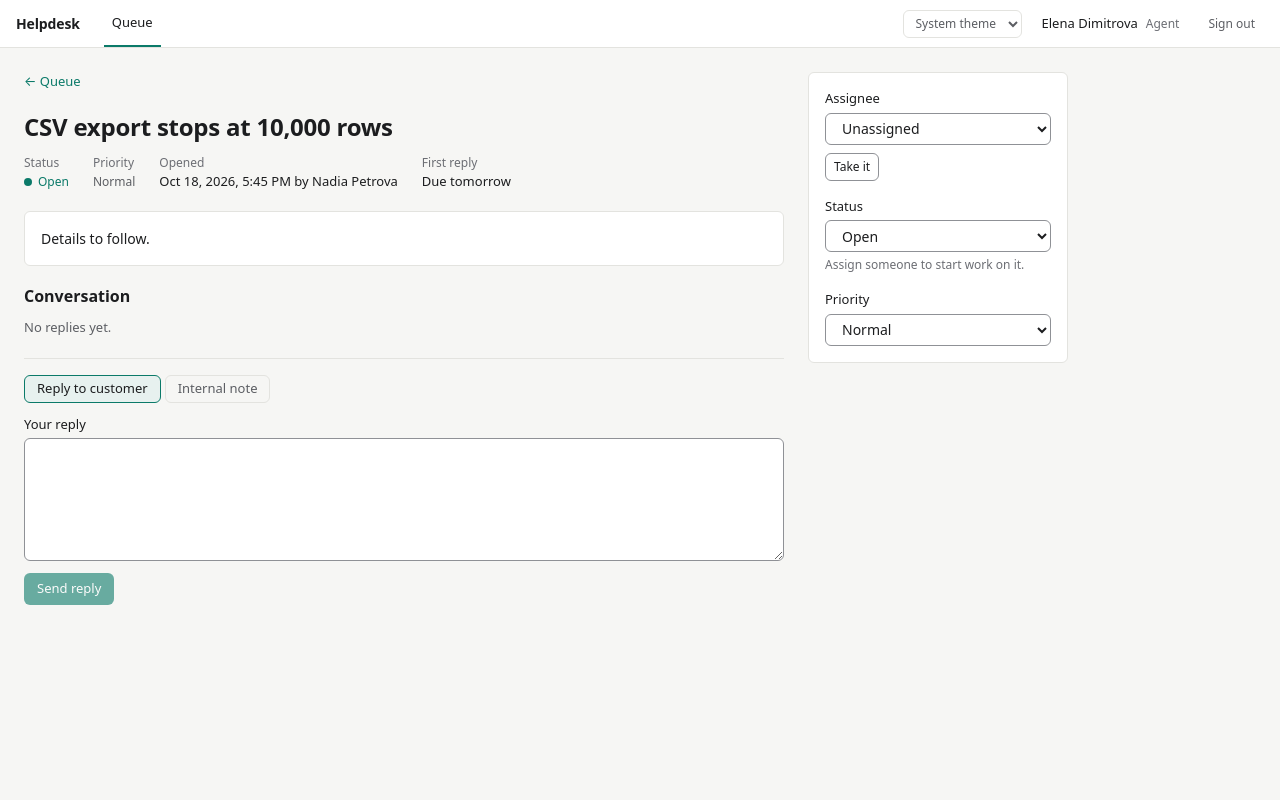
a ticket, worked by staff › raises the priority
Select "Urgent" in the dropdown labelled "Priority": (938, 330) [825,314,1051,346]
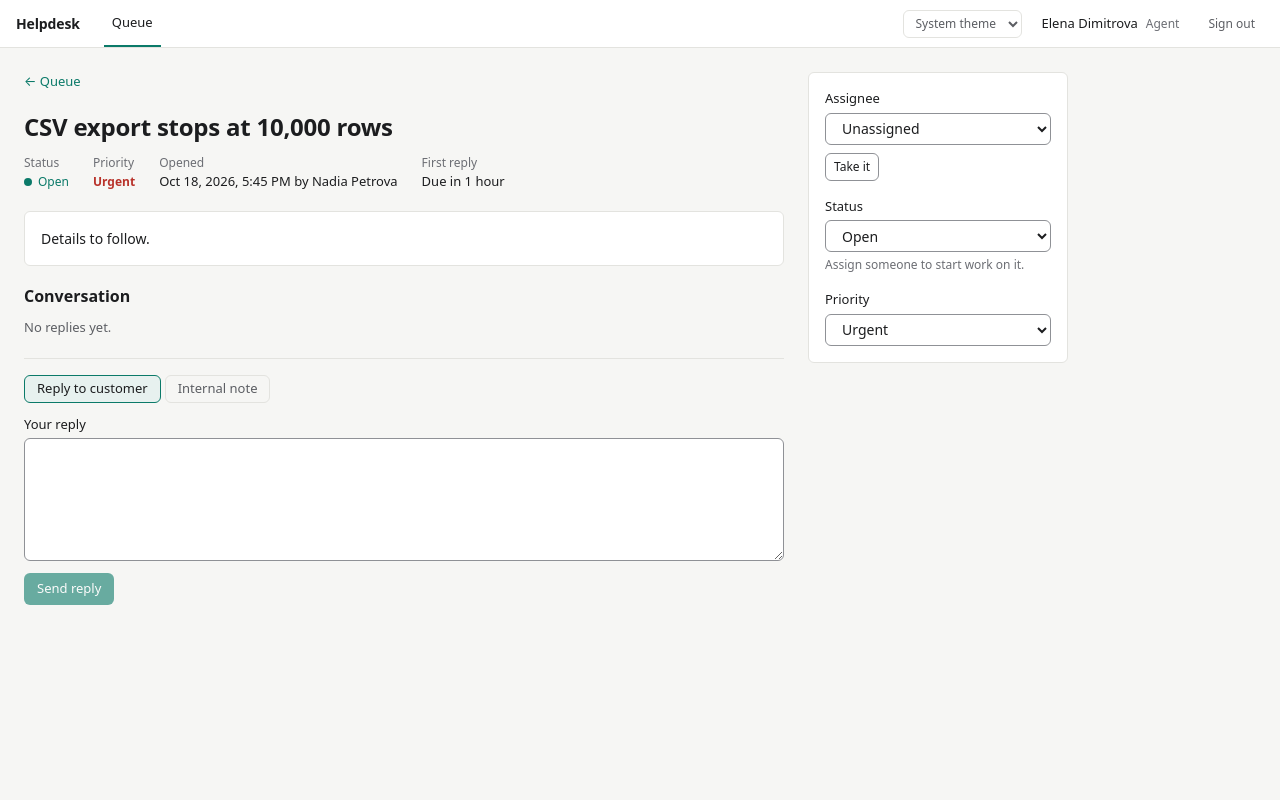
Now the text "Due in 1 hour" is shown, box [422,172,505,190]
